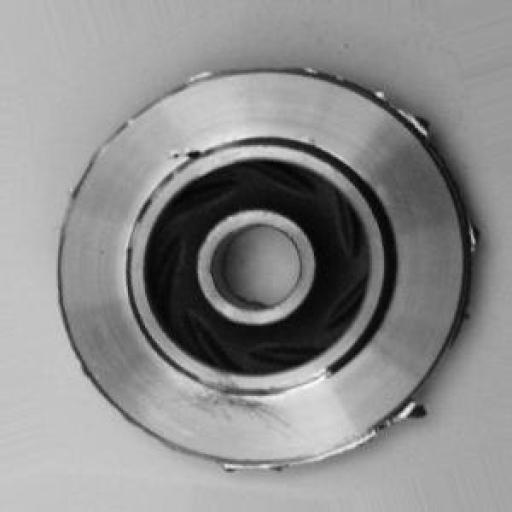defect: (43, 44, 485, 485)
